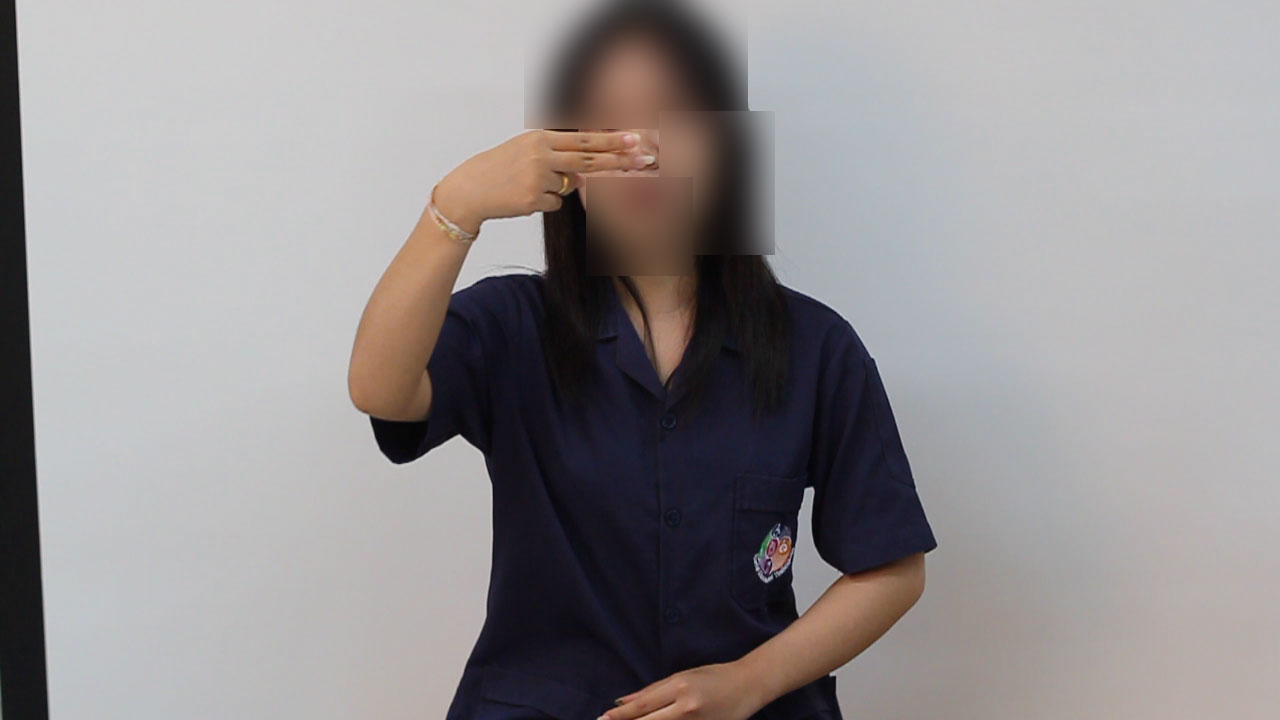hor: (415, 125, 666, 239)
